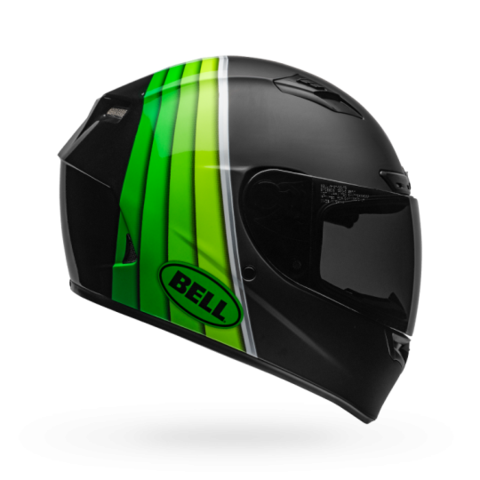with_helmet: (55, 48, 443, 431)
